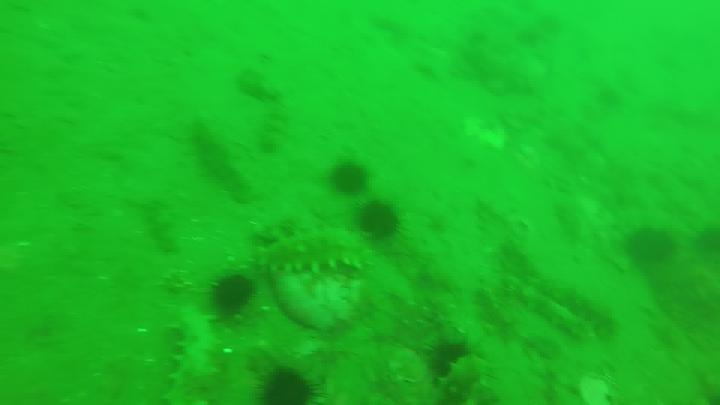echinus: (354, 198, 403, 248), (257, 369, 318, 405), (429, 337, 474, 379), (214, 275, 256, 319), (626, 230, 678, 264), (333, 160, 368, 197)
holothurian: (512, 276, 621, 346), (161, 314, 223, 405), (257, 230, 373, 275)
scallop: (581, 372, 613, 405)
